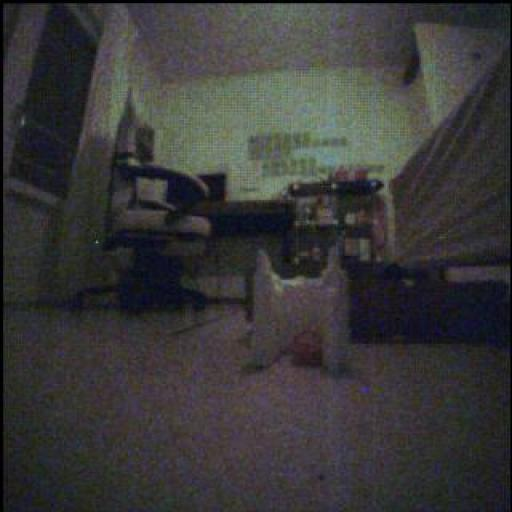basket: (292, 331, 324, 368)
